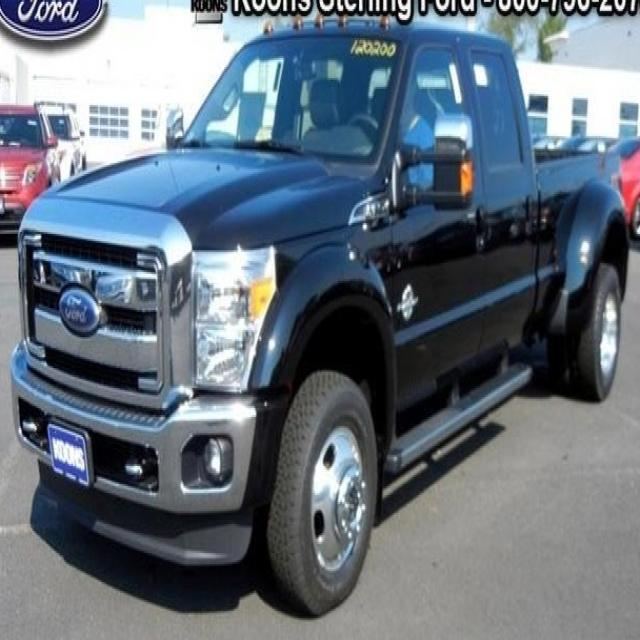CMT: (12, 17, 636, 590)
